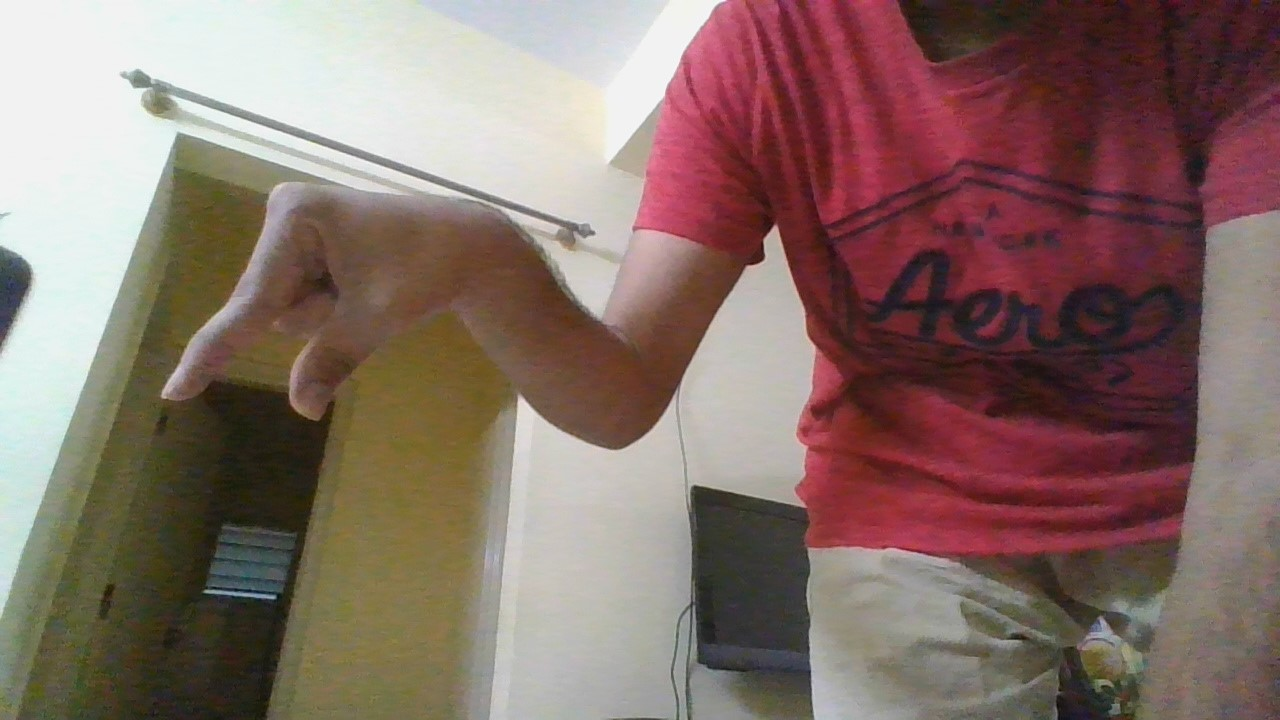q: (158, 178, 482, 429)
